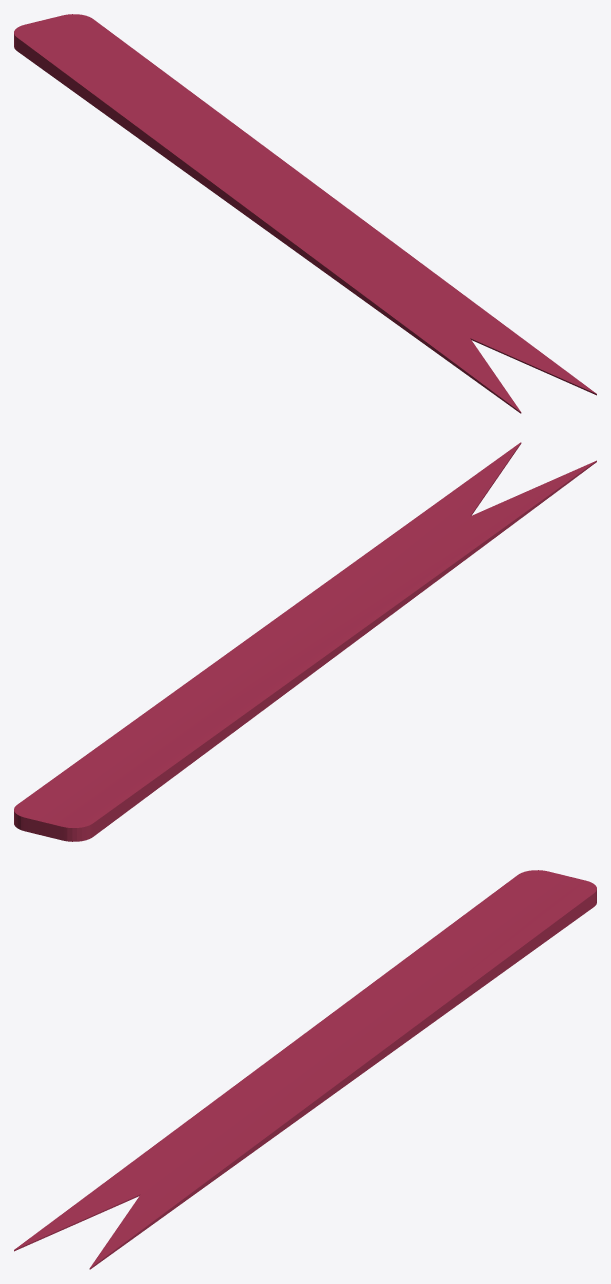
Rendered from snake_toung.fbx.
3 views of the same model, one above another, from view 1: azimuth 30°, elevation 25°; view 2: azimuth 150°, elevation 25°; view 3: azimuth 330°, elevation 25° (orthographic).
Parts seen in each view (by area): view 1: pCube1; view 2: pCube1; view 3: pCube1.
Boxes of the visible parts, box(x1,y1,x2,y2) form: pCube1: box(14, 14, 596, 413); pCube1: box(14, 442, 596, 841); pCube1: box(14, 870, 596, 1269).
Size of the model in its own units: 0.351 by 0.0604 by 4.12.
